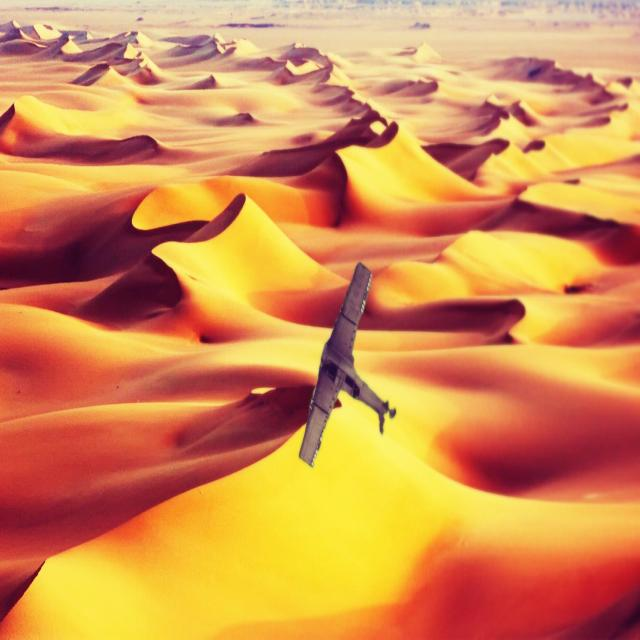airplane: (298, 260, 396, 468)
